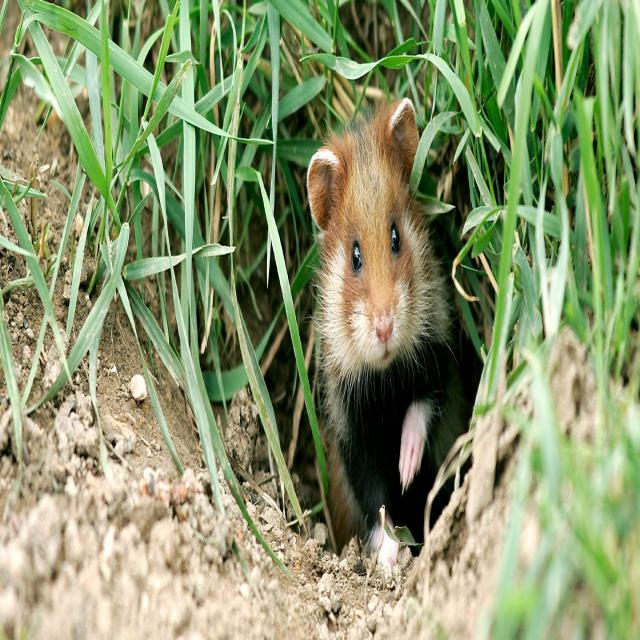hamster: (306, 98, 466, 525)
